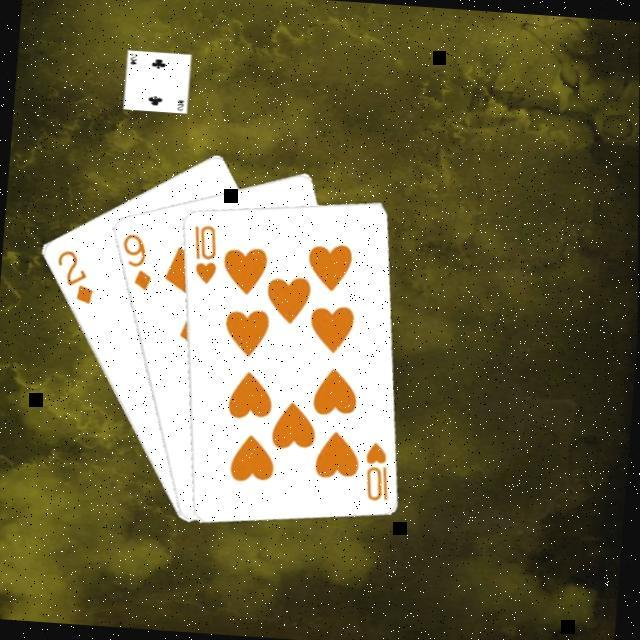10H: (358, 437, 394, 503), (186, 220, 220, 286)
2D: (49, 244, 98, 307)
9D: (115, 228, 156, 292)
